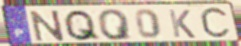0: (134, 8, 164, 41)
C: (198, 5, 233, 42)
K: (166, 8, 197, 39)
N: (28, 9, 67, 43)
Q: (62, 9, 103, 42), (96, 8, 135, 42)
